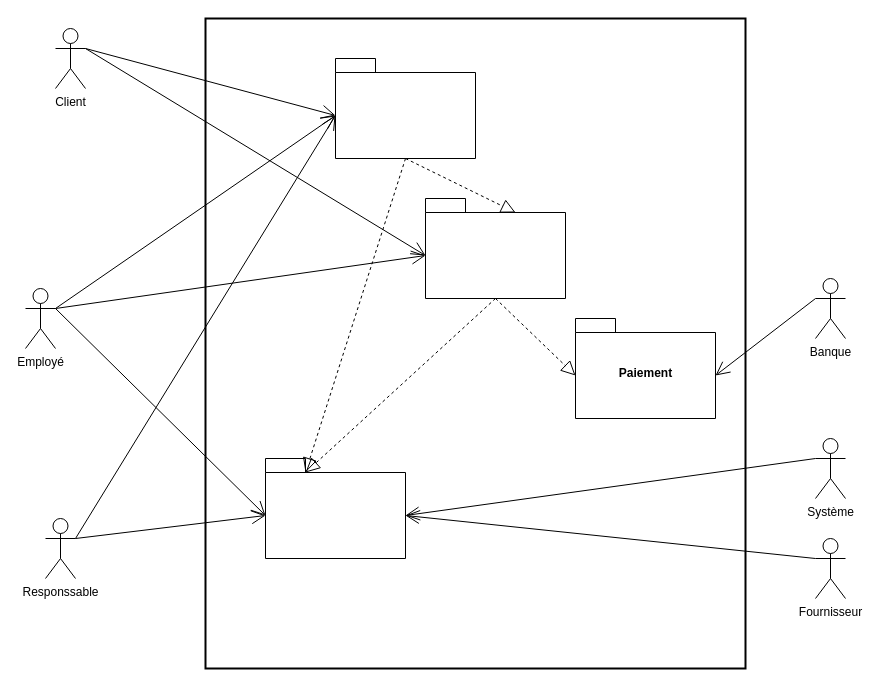
The diagram is 879 pixels wide and 686 high, and some of its shapes have lost their labels. Each missing label, with the box of its shape:
Authentification: (334, 58, 476, 158)
Commande: (424, 198, 566, 298)
Gestion: (264, 458, 406, 558)
